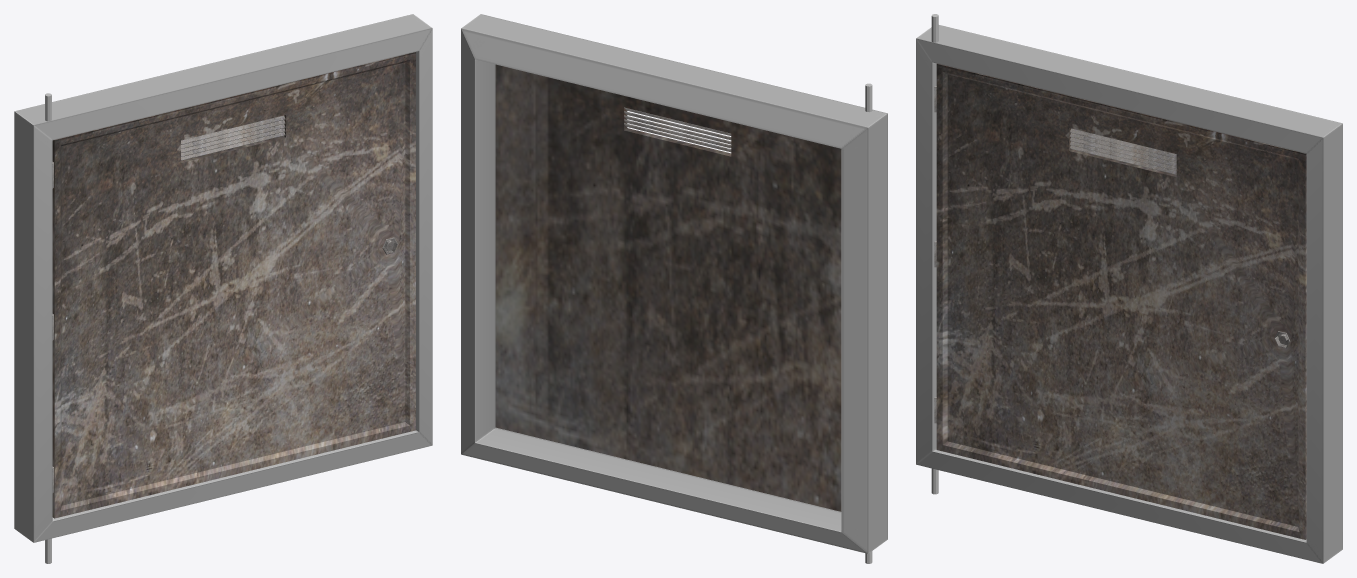
The model's file is door_ventilation01.dae.
3 views of the same model, side by side, from view 1: azimuth 30°, elevation 25°; view 2: azimuth 150°, elevation 25°; view 3: azimuth 330°, elevation 25° (orthographic). The views are drawn at different scales.
Parts seen in each view (by area): view 1: ventdoor01, mount; view 2: ventdoor01, mount; view 3: ventdoor01, mount.
Boxes of the visible parts, <box> form: ventdoor01: <box>52,52,415,518</box>; mount: <box>14,14,432,542</box>; ventdoor01: <box>495,64,841,511</box>; mount: <box>461,14,887,553</box>; ventdoor01: <box>934,63,1306,539</box>; mount: <box>916,25,1342,563</box>.
Size of what is drawn, in the model's own units: 0.9952 by 1.11 by 0.1171.
